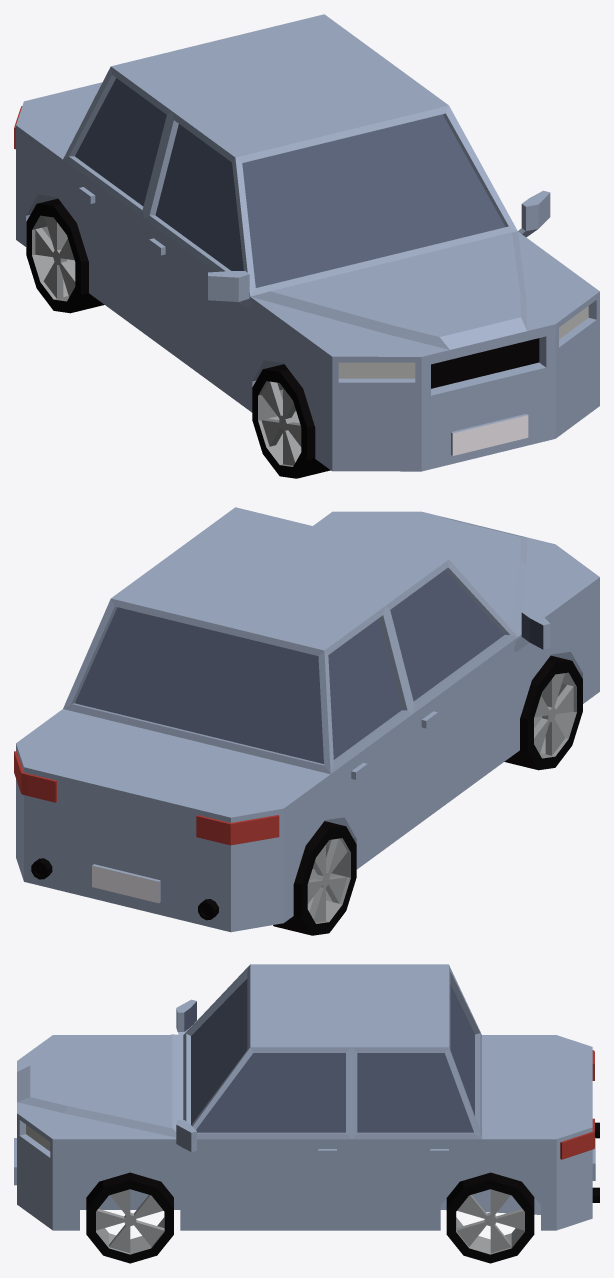
Rendered from sedan.glb.
The picture shows the model from 3 angles, top to bottom: view 1: azimuth 30°, elevation 25°; view 2: azimuth 150°, elevation 25°; view 3: azimuth 270°, elevation 25°; orthographic projection. The views are drawn at different scales.
Visible parts, largest first — view 1: paint, glass, wheel_fr, wheel_rr, headlights; view 2: paint, glass, wheel_rr, wheel_fr, taillights; view 3: paint, glass, wheel_rl, wheel_fl, taillights.
Part boxes in pixels (x1,y1,x2,y2): paint: (16,14,599,471); glass: (75,78,505,287); wheel_fr: (252,364,330,478); wheel_rr: (26,198,104,313); headlights: (338,306,588,378); paint: (16,507,599,932); glass: (75,570,543,763); wheel_rr: (273,821,356,935); wheel_fr: (504,655,582,770); taillights: (14,751,279,845); paint: (14,964,599,1230); glass: (184,978,474,1132); wheel_rl: (446,1172,534,1263); wheel_fl: (86,1172,173,1263); taillights: (560,1050,594,1159).
Bounding box in the file's own units: 1.76 × 1.26 × 3.27.
